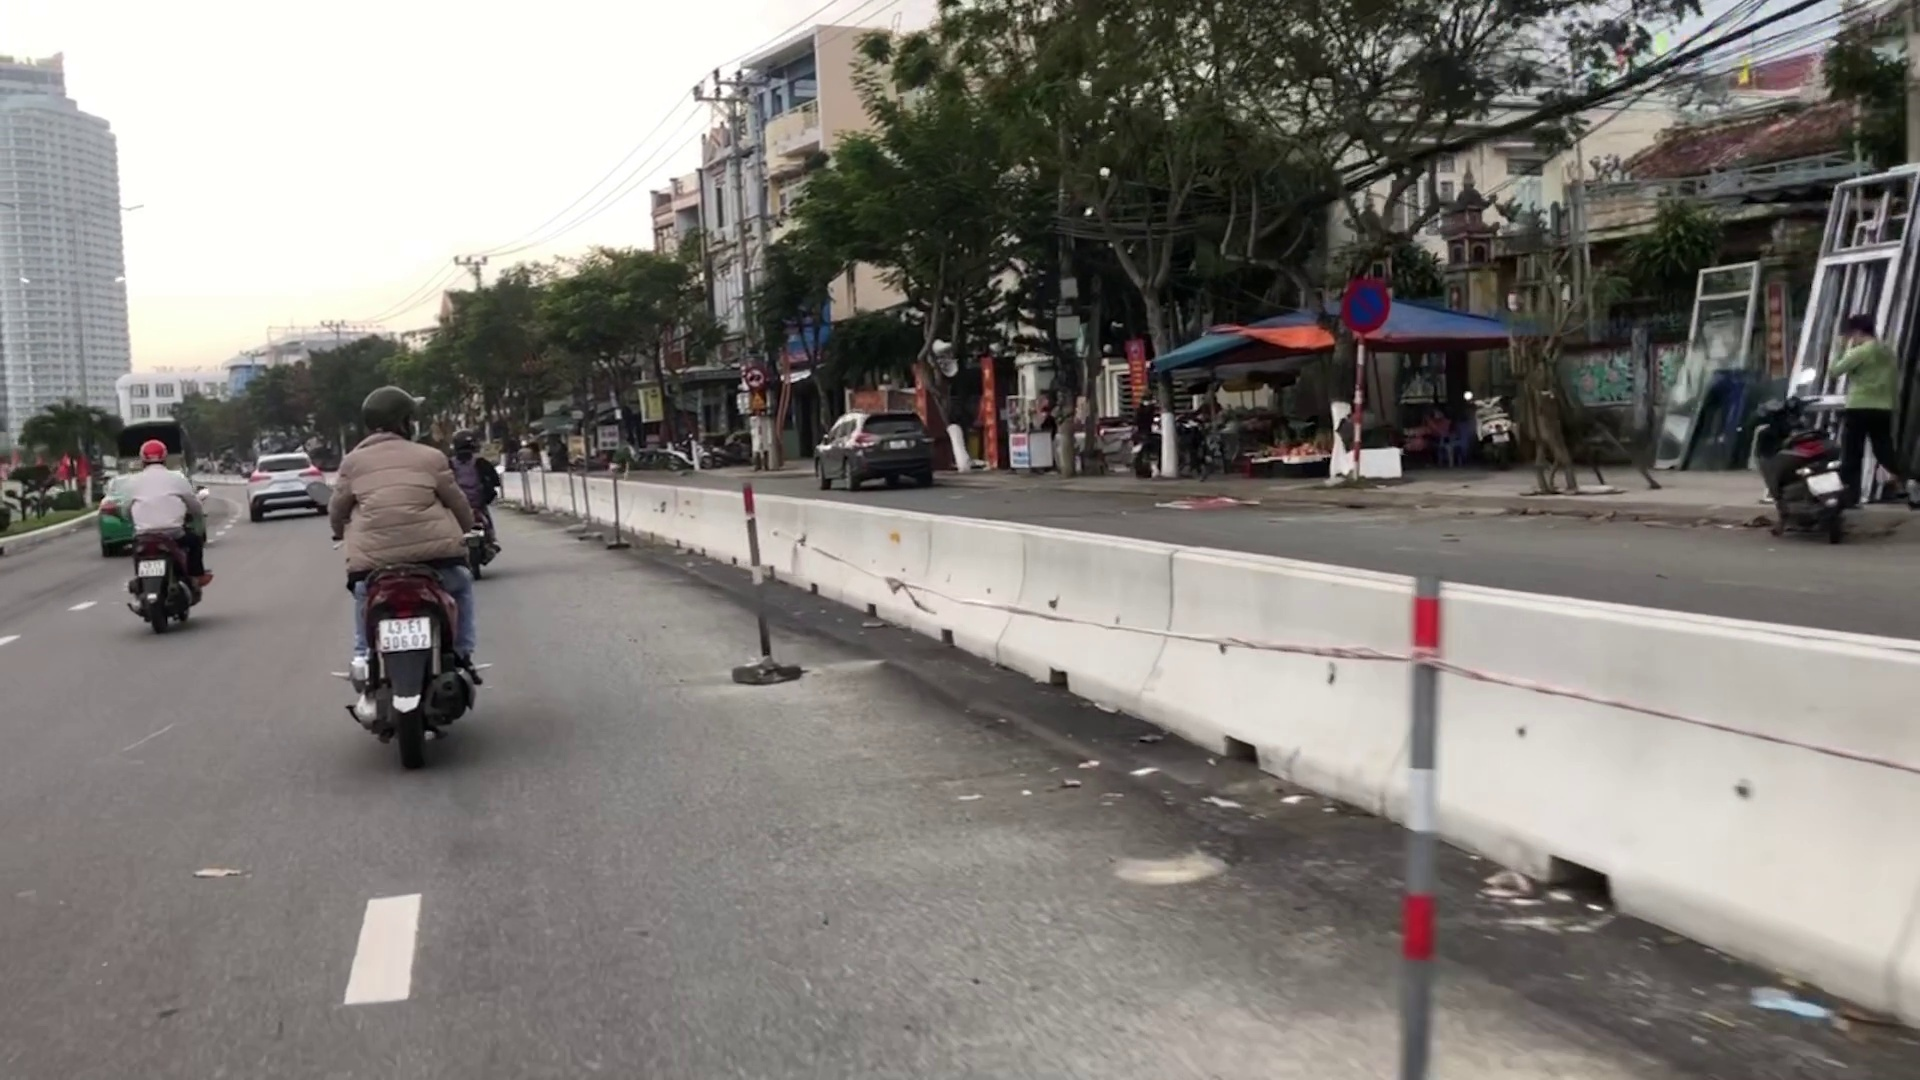Cam do xe: (1336, 272, 1393, 338)
